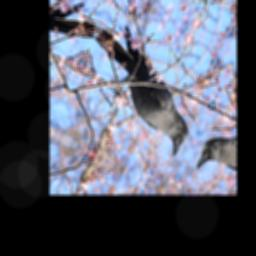Crow: (66, 16, 219, 160)
